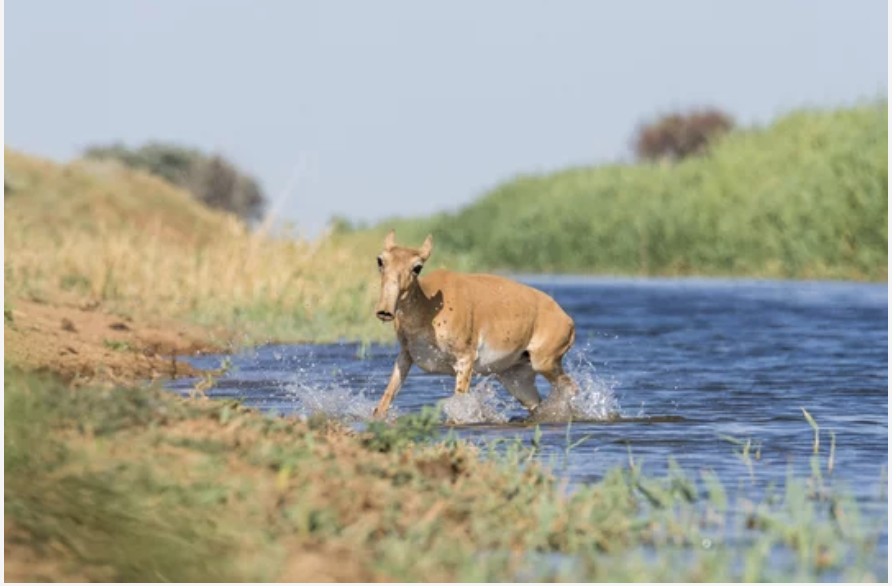saiga: (349, 228, 605, 449)
